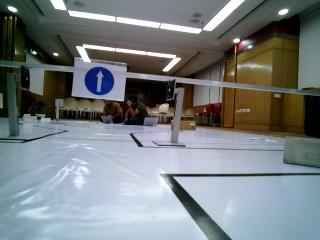straight: (73, 55, 125, 100)
